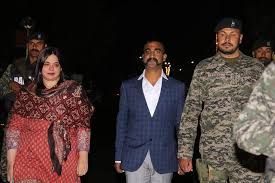uniform: (190, 48, 260, 178)
